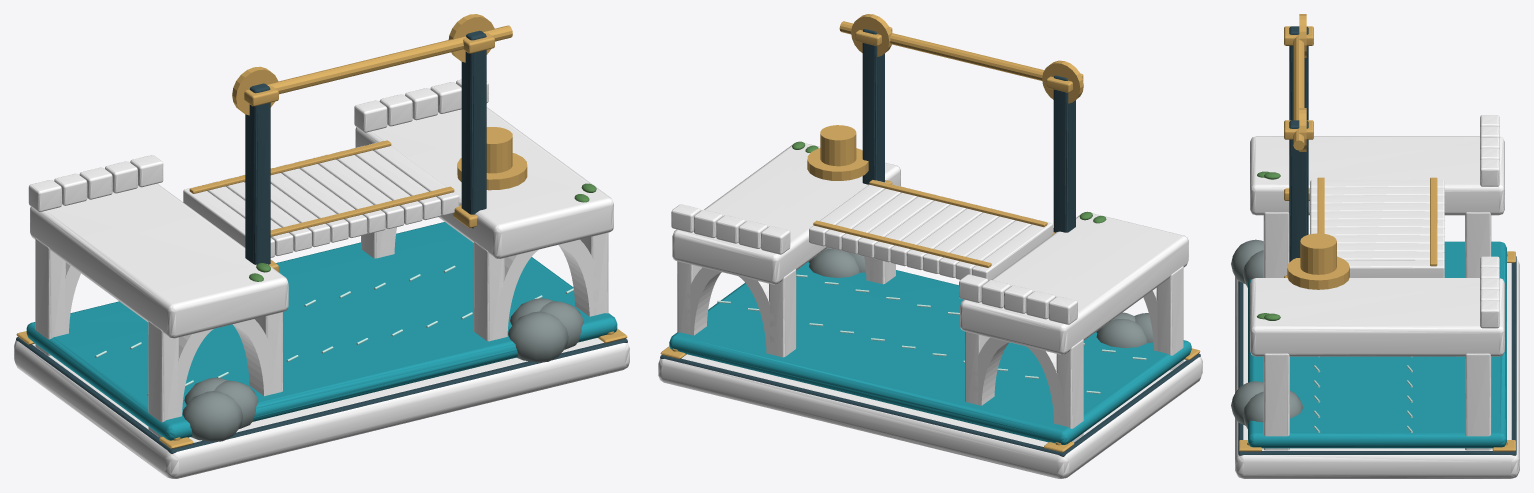
File: BalanceBridgeStage.glb
3 views of the same model, side by side, from view 1: azimuth 30°, elevation 25°; view 2: azimuth 150°, elevation 25°; view 3: azimuth 270°, elevation 25° (orthographic). The views are drawn at different scales.
Parts seen in each view (by area): view 1: BalanceBridgeStage_RK_Stone_Puzzle, River, CarvedTimberBase.001, BalanceBridgeStage_PUZ_NavyIron, BalanceBridgeStage_PUZ_Rock, BalanceBridgeStage_PUZ_Brass, DeckPlank, DeckPlank.005, DeckPlank.008, DeckPlank.006, DeckPlank.007, DeckPlank.009 (+9 smaller); view 2: BalanceBridgeStage_RK_Stone_Puzzle, River, CarvedTimberBase.001, BalanceBridgeStage_PUZ_NavyIron, BalanceBridgeStage_PUZ_Brass, BalanceBridgeStage_PUZ_Rock, DeckPlank, Counterweight, BrassPan, DeckPlank.009, DeckPlank.008, DeckPlank.005 (+10 smaller); view 3: BalanceBridgeStage_RK_Stone_Puzzle, River, CarvedTimberBase.001, BalanceBridgeStage_PUZ_NavyIron, BalanceBridgeStage_PUZ_Brass, BalanceBridgeStage_PUZ_Rock, DeckPlank.010, Counterweight, BrassPan, DeckPlank.003, DeckPlank.004, DeckPlank.005 (+10 smaller).
Part boxes in pixels (box(x1,y1,x2,y2)): BalanceBridgeStage_RK_Stone_Puzzle: box(28, 79, 613, 437); River: box(26, 222, 617, 440); CarvedTimberBase.001: box(14, 338, 629, 478); BalanceBridgeStage_PUZ_NavyIron: box(16, 30, 627, 453); BalanceBridgeStage_PUZ_Rock: box(182, 298, 583, 441); BalanceBridgeStage_PUZ_Brass: box(16, 14, 627, 448); DeckPlank: box(183, 186, 274, 257); DeckPlank.005: box(278, 163, 367, 238); DeckPlank.008: box(332, 150, 422, 224); DeckPlank.006: box(295, 159, 385, 233); DeckPlank.007: box(313, 154, 403, 229); DeckPlank.009: box(350, 145, 440, 220); BalanceBridgeStage_RK_Stone_Puzzle: box(671, 143, 1188, 442); River: box(669, 262, 1191, 444); CarvedTimberBase.001: box(658, 354, 1202, 478); BalanceBridgeStage_PUZ_NavyIron: box(660, 29, 1200, 456); BalanceBridgeStage_PUZ_Brass: box(660, 14, 1200, 452); BalanceBridgeStage_PUZ_Rock: box(808, 247, 1153, 348); DeckPlank: box(972, 220, 1052, 280); Counterweight: box(820, 125, 856, 166); BrassPan: box(807, 148, 868, 180); DeckPlank.009: box(825, 184, 903, 250); DeckPlank.008: box(841, 188, 921, 254); DeckPlank.005: box(890, 200, 970, 266); BalanceBridgeStage_RK_Stone_Puzzle: box(1250, 115, 1504, 450); River: box(1248, 241, 1506, 448); CarvedTimberBase.001: box(1235, 258, 1519, 478); BalanceBridgeStage_PUZ_NavyIron: box(1238, 26, 1516, 455); BalanceBridgeStage_PUZ_Brass: box(1239, 14, 1515, 451); BalanceBridgeStage_PUZ_Rock: box(1231, 239, 1302, 428); DeckPlank.010: box(1345, 260, 1444, 277); Counterweight: box(1300, 233, 1336, 274); BrassPan: box(1287, 256, 1349, 289); DeckPlank.003: box(1310, 204, 1444, 213); DeckPlank.004: box(1310, 212, 1444, 221); DeckPlank.005: box(1310, 220, 1444, 229).
Size of the model in its own units: 3.65 by 2.69 by 2.21.
